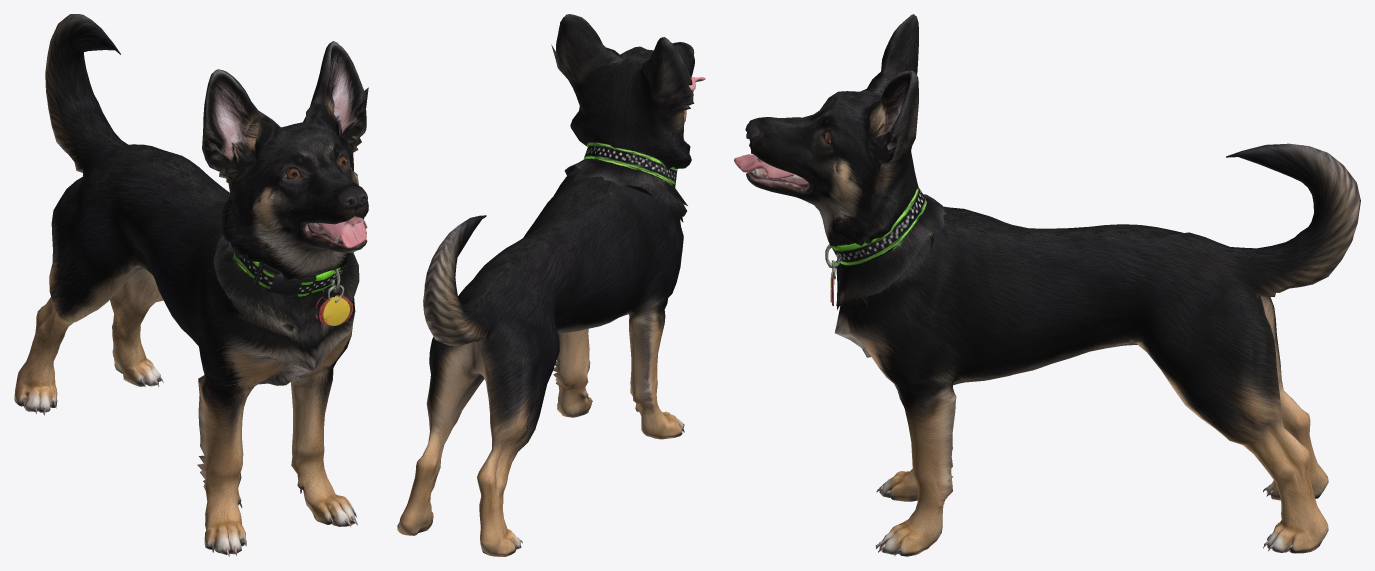
Rendered from dog_collar_repair_v2.glb.
The picture shows the model from 3 angles, left to right: view 1: azimuth 30°, elevation 25°; view 2: azimuth 150°, elevation 25°; view 3: azimuth 270°, elevation 25°; orthographic projection. The views are drawn at different scales.
Size of the model in its own units: 0.2998 by 0.8071 by 0.9575.
Materials: 2 (1 with a texture image).
